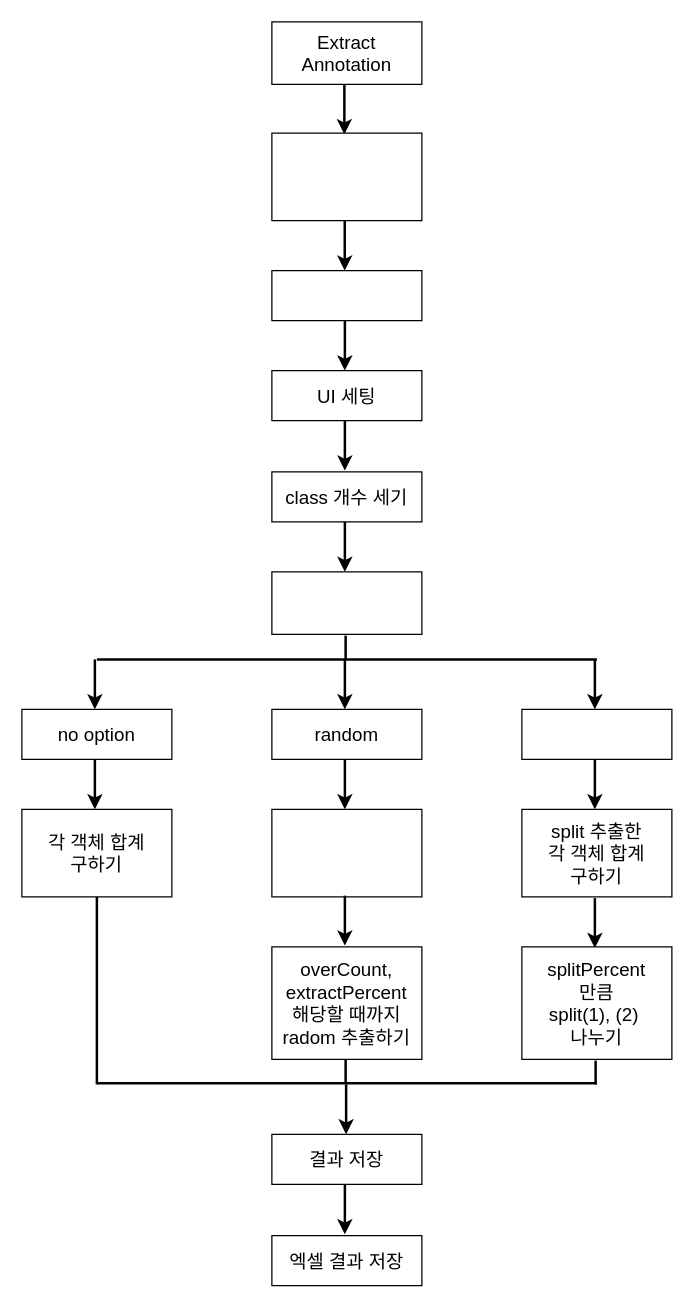
Image size: 694x1308. Some labels were removed from this diagram. The centre of each missing label's shape, as x and y in pixels:
"classNameList 만들기" goes at point (346, 602).
"Input (annotation.txt imglist.txt)" goes at point (346, 176).
"random 추출한 각 객체 합계 구하기" goes at point (346, 852).
"split" goes at point (596, 733).
"UI 초기화" goes at point (346, 295).
